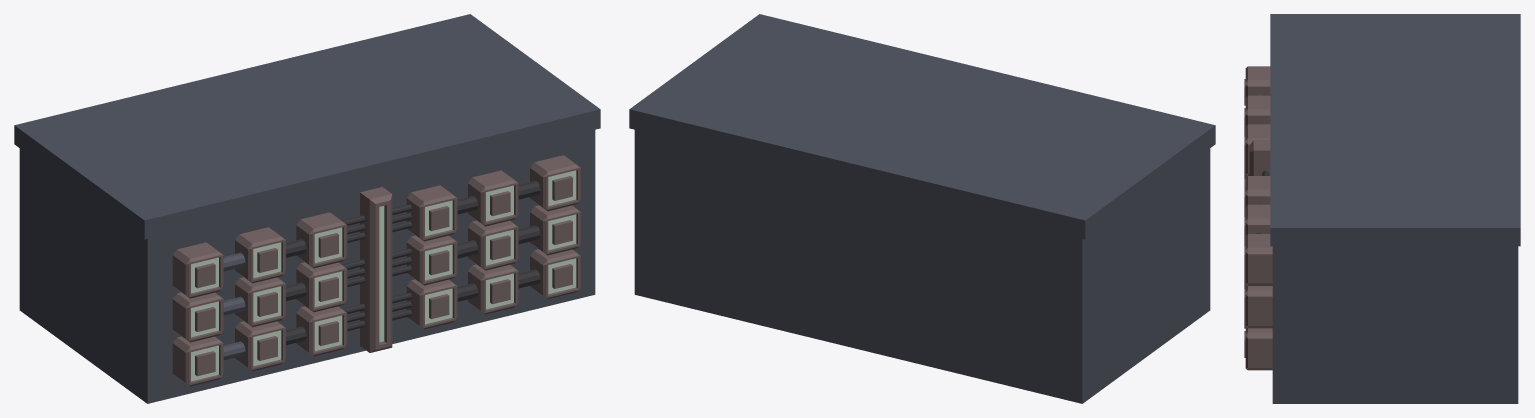
The model's file is HouseBlock2.fbx.
3 views of the same model, side by side, from view 1: azimuth 30°, elevation 25°; view 2: azimuth 150°, elevation 25°; view 3: azimuth 270°, elevation 25° (orthographic). The views are drawn at different scales.
Visible parts, largest first — view 1: block2; view 2: block2; view 3: block2.
Boxes of the visible parts, x1,y1,x2,y2 form: block2: [14, 14, 600, 403]; block2: [629, 14, 1215, 403]; block2: [1244, 14, 1520, 403].
Bounding box in the file's own units: 4052 × 1573 × 2211.
